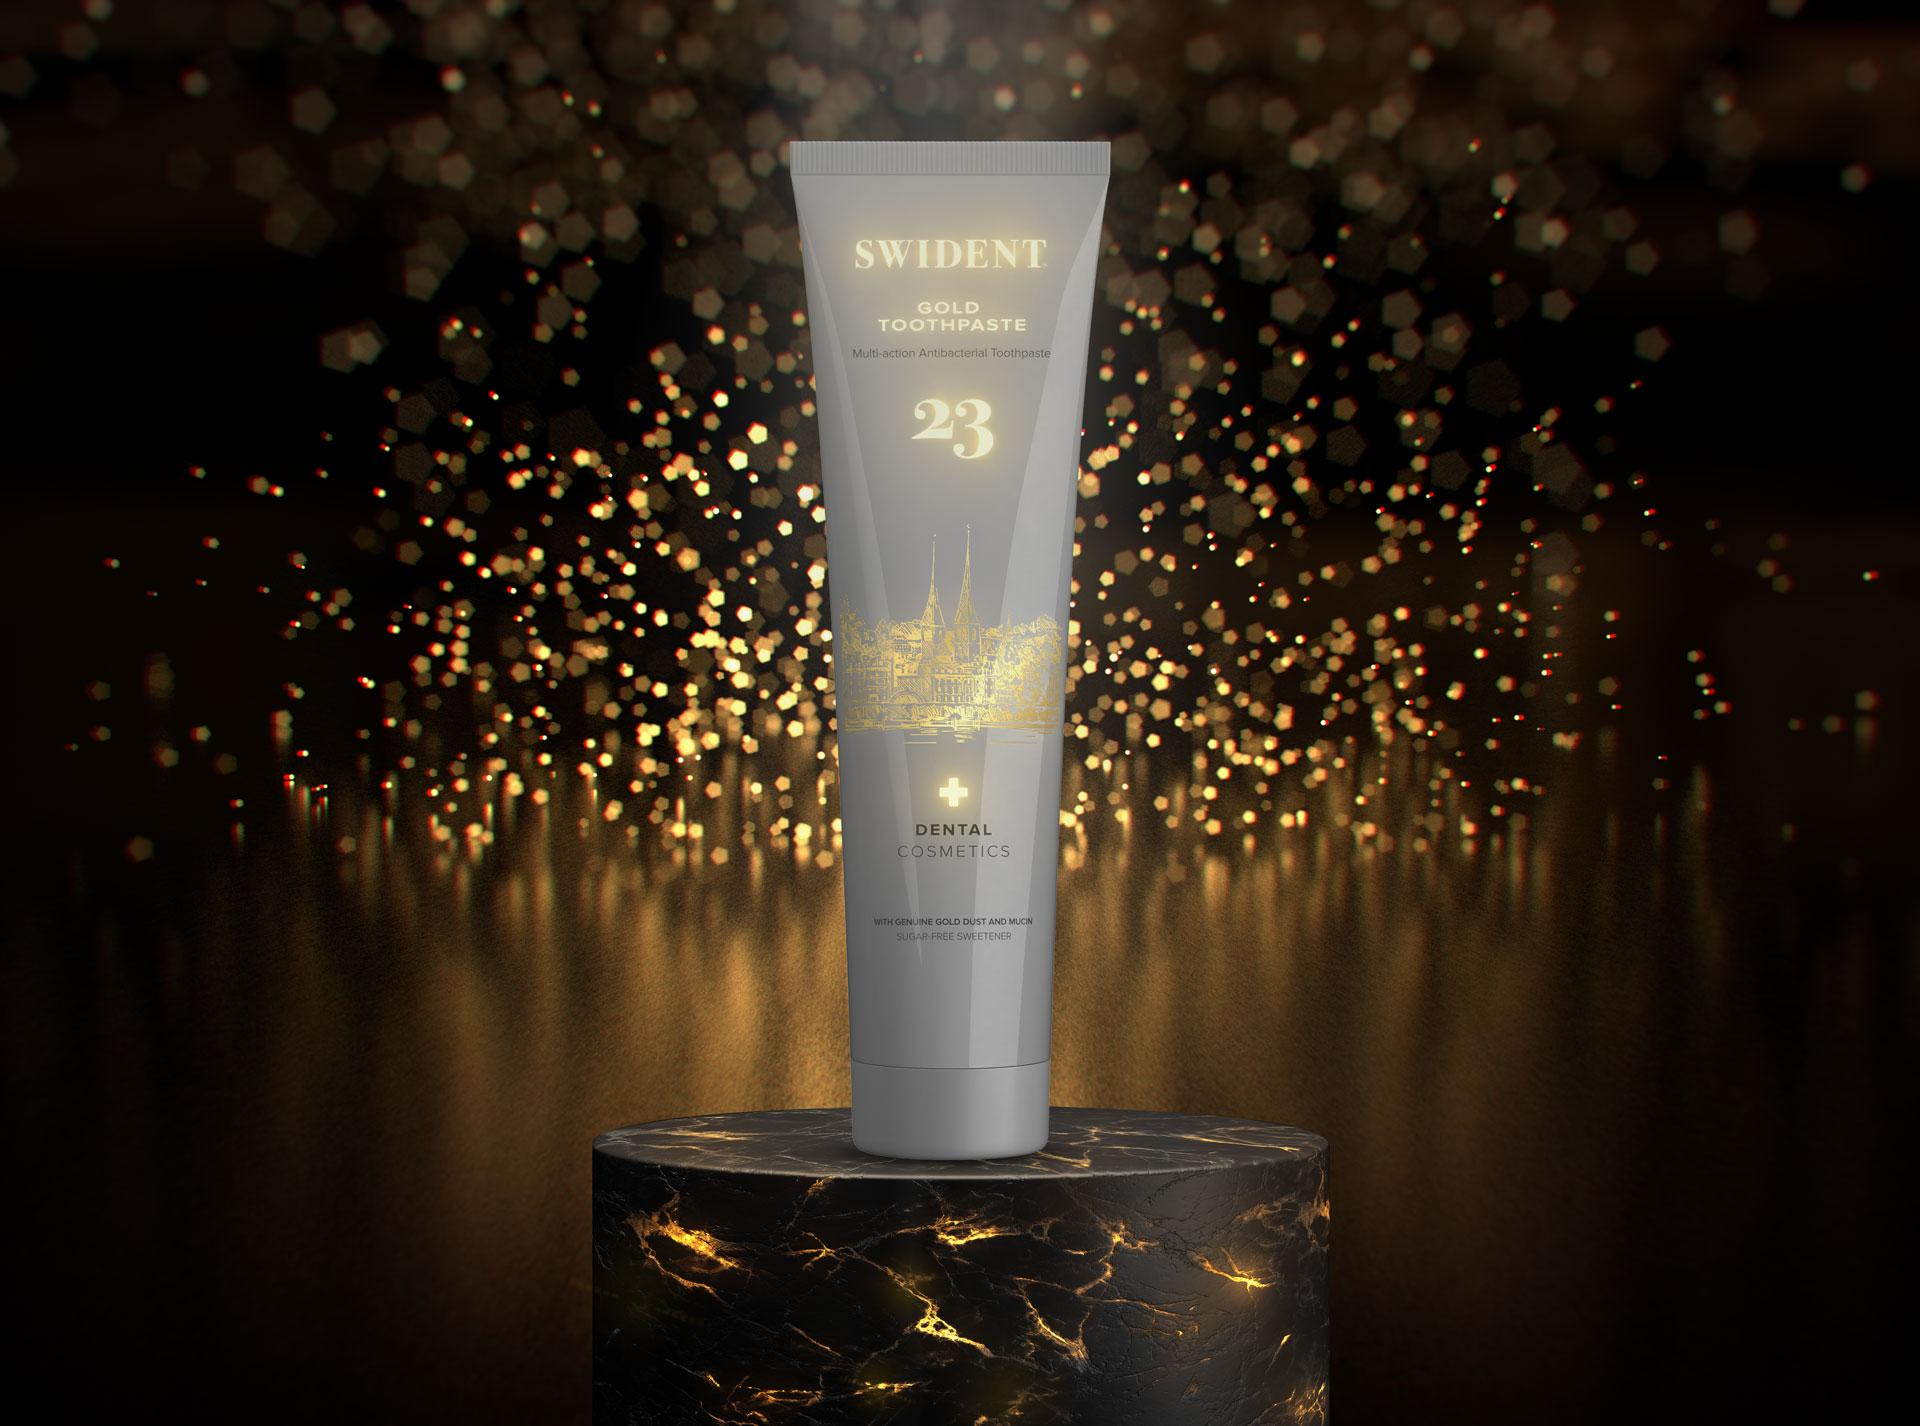toothpaste: (750, 100, 1156, 1185)
